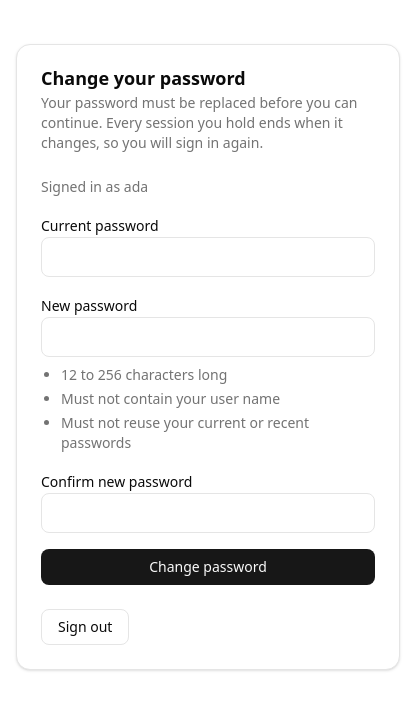
Test: ChangePassword › shows a 400 by the rule the backend names, clears the fields and echoes neither value
This screenshot has width=417, height=716.
Type "Current-Value-4f81" into the password field labelled "Current password".
click(208, 257); type("Current-Value-4f81")  # box [41,237,375,277]
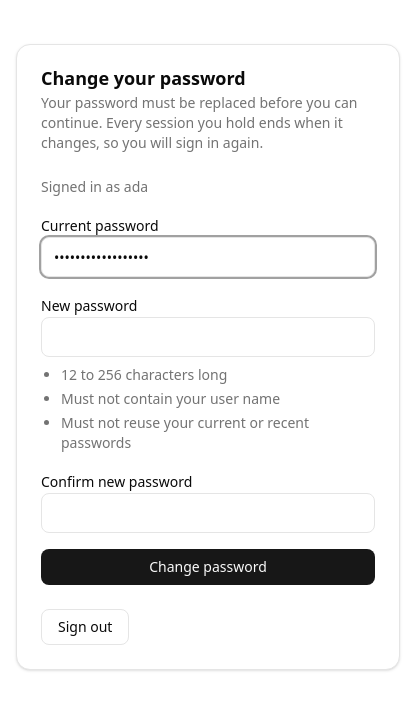
Type "Next-Value-9c2e-long" into the password field labelled "New password".
click(208, 337); type("Next-Value-9c2e-long")  # box [41,317,375,357]
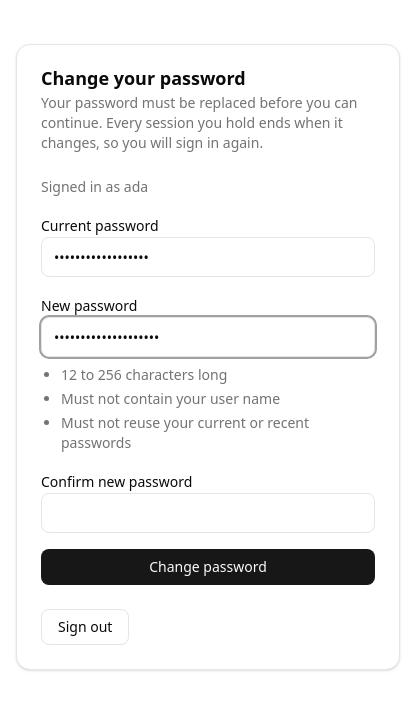
Type "Next-Value-9c2e-long" into the password field labelled "Confirm new password".
click(208, 513); type("Next-Value-9c2e-long")  # box [41,493,375,533]
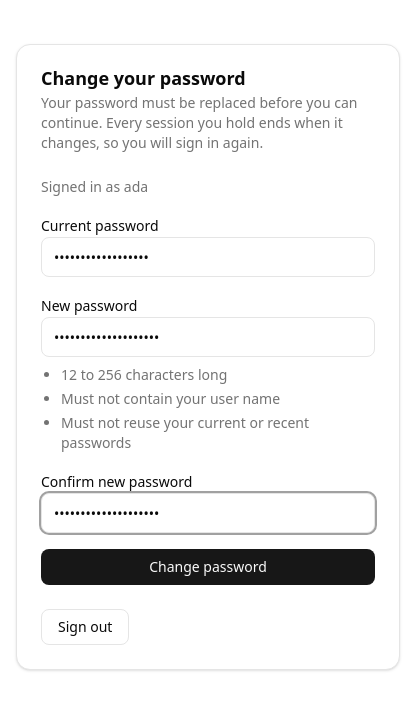
Click the button "Change password".
click(208, 567)  # box [41,549,375,585]
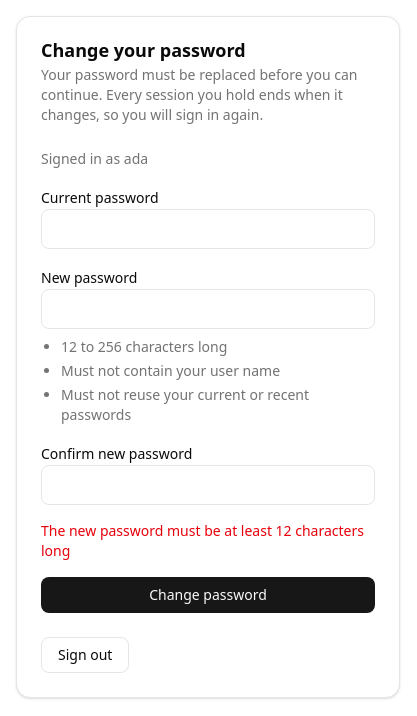
Now the message reads "The new password must be at least 12 characters long", box [41,521,364,560]
Now the password field labelled "Current password" is empty, box [41,209,375,249]
Now the password field labelled "New password" is empty, box [41,289,375,329]
